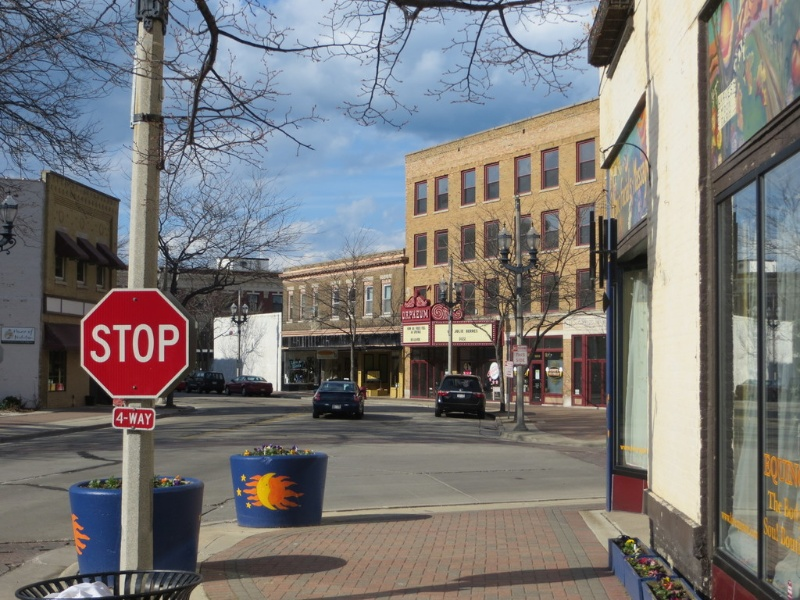stop: (78, 287, 192, 403)
